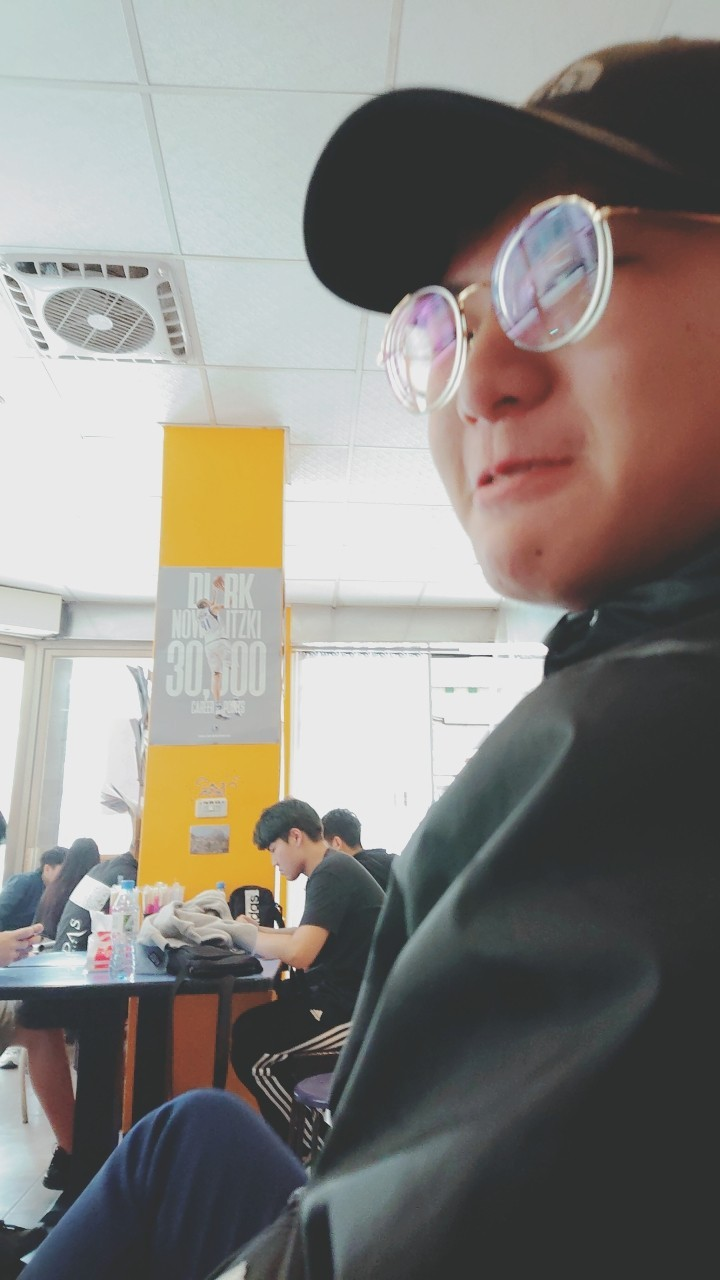people: (340, 108, 720, 1072), (254, 806, 399, 1090), (12, 841, 79, 941), (342, 800, 412, 892)
